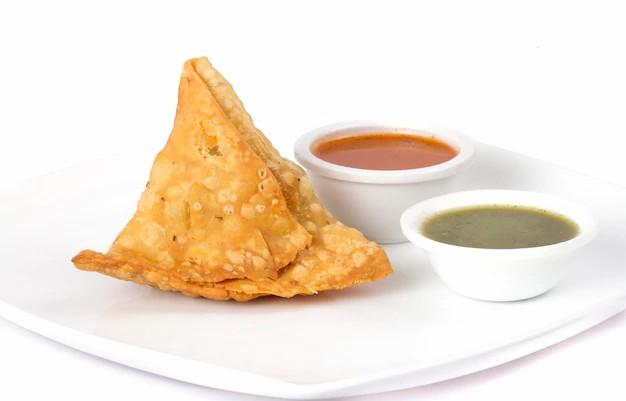GreenChutney: (423, 205, 578, 250)
Samosa: (70, 58, 392, 303)
